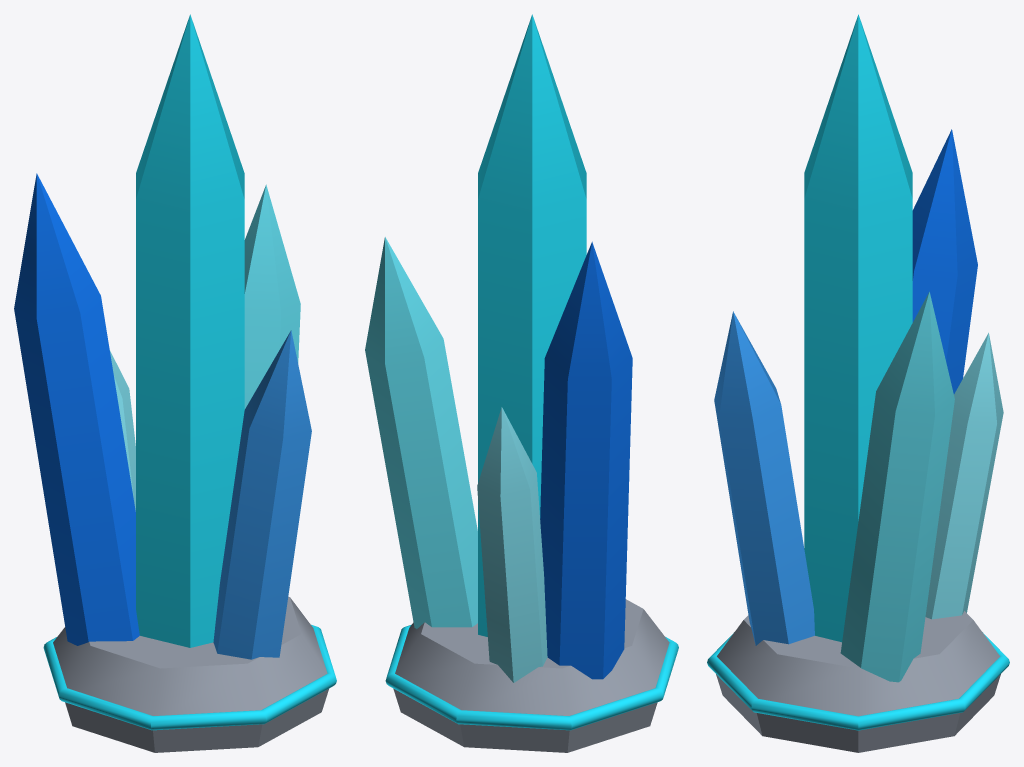
File: Rocket_27_CrystalCluster.obj
The picture shows the model from 3 angles, left to right: view 1: azimuth 30°, elevation 25°; view 2: azimuth 150°, elevation 25°; view 3: azimuth 270°, elevation 25°; orthographic projection.
Visible parts, largest first — view 1: R27_Crystal, R27_Crystal_3, R27_Base, R27_Crystal_4, R27_Crystal_2, R27_BaseGlow, R27_Crystal_5; view 2: R27_Crystal, R27_Crystal_3, R27_Crystal_2, R27_Base, R27_Crystal_5, R27_BaseGlow; view 3: R27_Crystal, R27_Crystal_2, R27_Base, R27_Crystal_4, R27_Crystal_5, R27_Crystal_3, R27_BaseGlow.
Part boxes in pixels (x1,y1,x2,y2): R27_Crystal: [136, 14, 244, 647]; R27_Crystal_3: [14, 173, 139, 645]; R27_Base: [53, 596, 328, 752]; R27_Crystal_4: [213, 330, 311, 659]; R27_Crystal_2: [244, 184, 300, 409]; R27_BaseGlow: [43, 624, 336, 730]; R27_Crystal_5: [109, 350, 135, 511]; R27_Crystal: [478, 14, 586, 636]; R27_Crystal_3: [540, 241, 632, 679]; R27_Crystal_2: [365, 237, 477, 628]; R27_Base: [393, 599, 669, 752]; R27_Crystal_5: [477, 407, 547, 682]; R27_BaseGlow: [385, 624, 678, 730]; R27_Crystal: [804, 14, 912, 642]; R27_Crystal_2: [840, 291, 954, 682]; R27_Base: [716, 611, 1000, 752]; R27_Crystal_4: [714, 311, 814, 645]; R27_Crystal_5: [925, 332, 1003, 619]; R27_Crystal_3: [912, 129, 977, 393]; R27_BaseGlow: [707, 632, 1009, 730].
Size of the model in its own units: 2.9 by 7.2 by 2.9.
